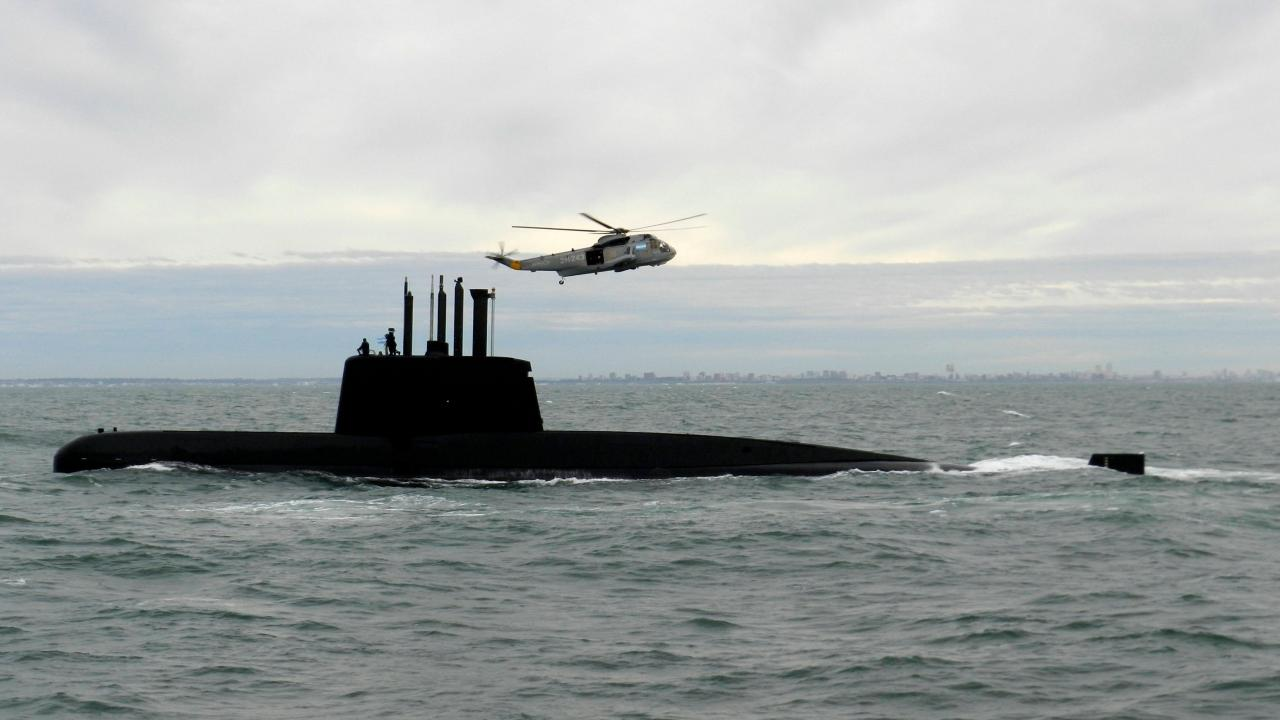Helicopter: (482, 200, 719, 291)
